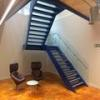stairs: (3, 11, 93, 99), (7, 1, 63, 62), (28, 45, 96, 92)
